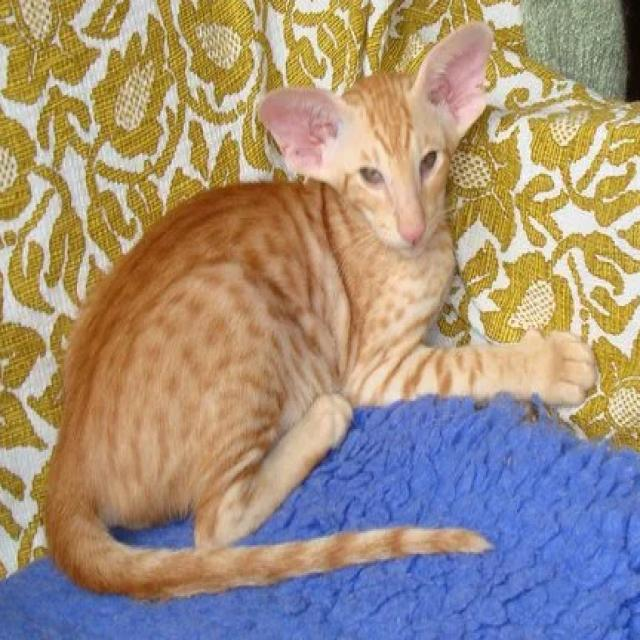Oriental: (41, 19, 600, 606)
